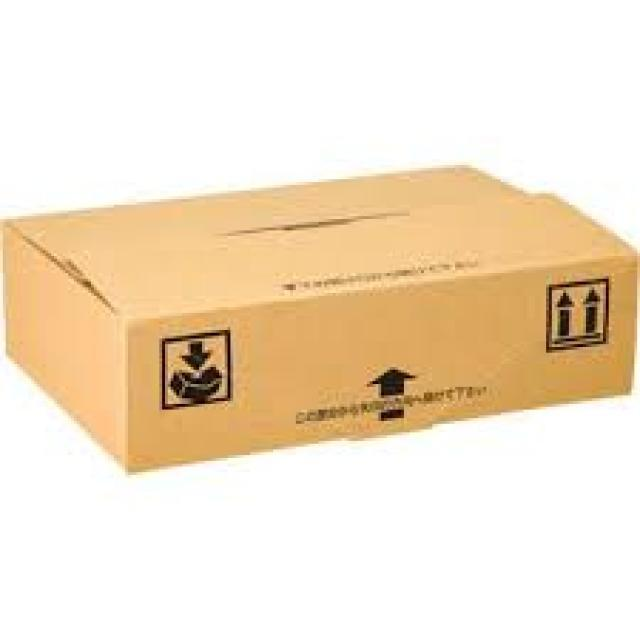Cardboard: (0, 158, 640, 471)
